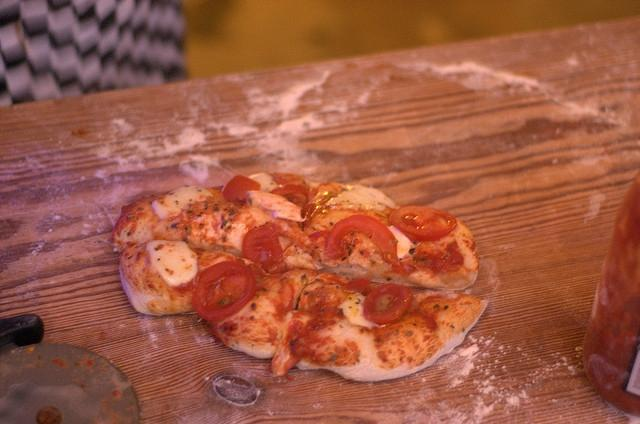tomato: (322, 214, 400, 266), (192, 262, 256, 321), (388, 205, 458, 242), (242, 225, 288, 274), (363, 282, 413, 325), (222, 174, 262, 202), (302, 188, 334, 218), (277, 282, 294, 314), (308, 296, 330, 319), (270, 184, 310, 196), (282, 192, 306, 207), (309, 230, 331, 242), (428, 312, 436, 320)
